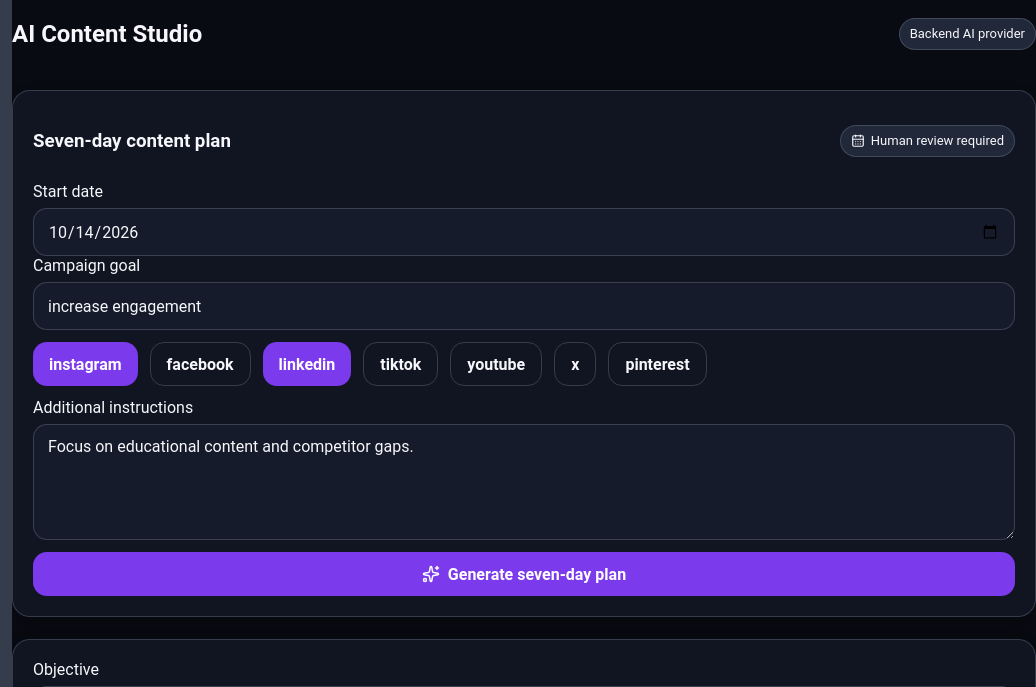
it: weekly content plan studio › clears the loading state when asynchronous queue submission fails
Click the button "Generate seven-day plan": (524,574) [33, 552, 1015, 596]
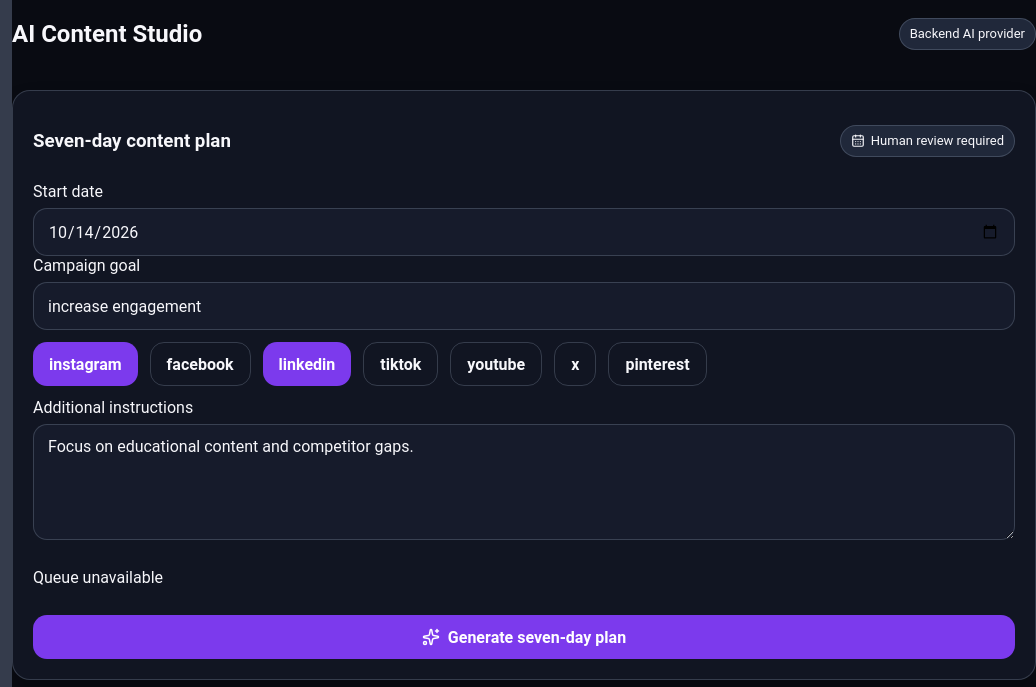
Expected: the button "Generate seven-day plan" is enabled, [33, 615, 1015, 659]
Expected: the text "Queue unavailable" is shown, [33, 568, 163, 587]
